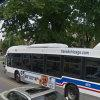Bus: (4, 37, 100, 100)
